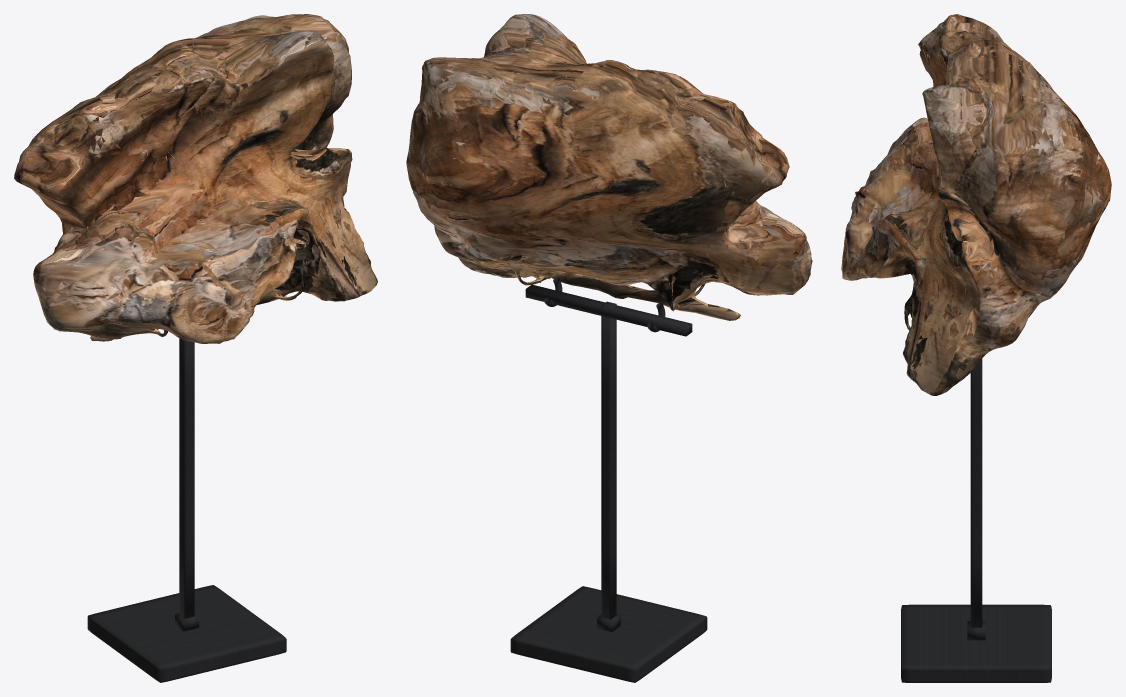
Rendered from escultura-esc-038.glb.
3 renders of one model, left to right at view 1: azimuth 30°, elevation 25°; view 2: azimuth 150°, elevation 25°; view 3: azimuth 270°, elevation 25°, orthographic. The views are drawn at different scales.
Parts seen in each view (by area): view 1: world; view 2: world; view 3: world.
Part boxes in pixels (box(x1,y1,x2,y2)): world: box(14, 14, 377, 682); world: box(406, 14, 812, 682); world: box(841, 14, 1111, 682).
Bounding box in the file's own units: 0.717 × 1.18 × 0.472.
1 material, 1 textured.
